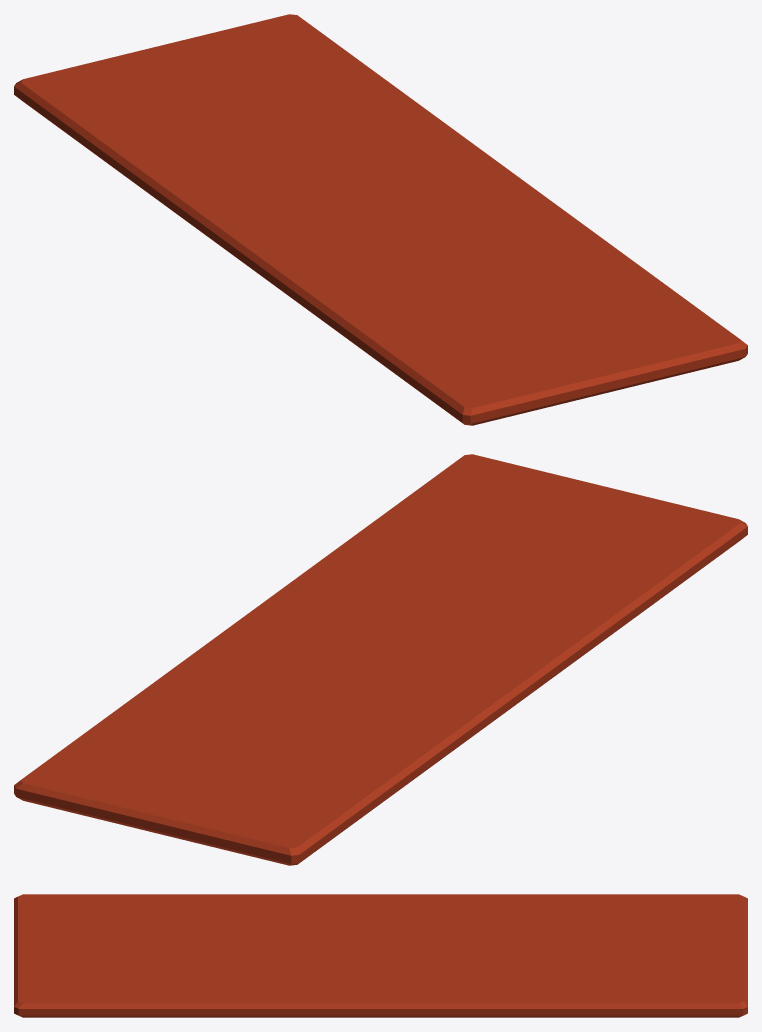
3 views of the same model, one above another, from view 1: azimuth 30°, elevation 25°; view 2: azimuth 150°, elevation 25°; view 3: azimuth 270°, elevation 25° (orthographic). The views are drawn at different scales.
Visible parts, largest first — view 1: Sp_Mat_1; view 2: Sp_Mat_1; view 3: Sp_Mat_1.
Part boxes in pixels (left/top/right/bottom): Sp_Mat_1: left=14, top=14, right=747, bottom=425; Sp_Mat_1: left=14, top=454, right=747, bottom=865; Sp_Mat_1: left=14, top=894, right=747, bottom=1017.
Size of the model in its own units: 0.6884 by 0.0405 by 1.9.
1 material, 1 textured.
